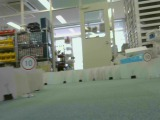speed_10: (20, 54, 37, 70)
